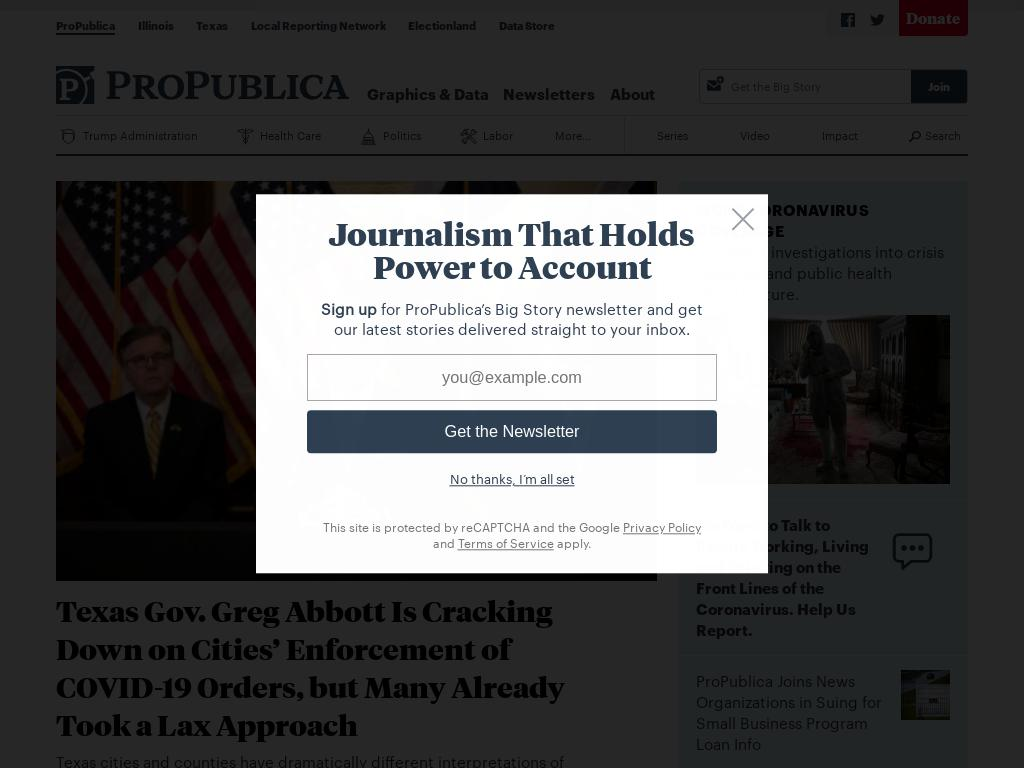button: (56, 180, 657, 581), (696, 314, 950, 484), (696, 514, 950, 641), (696, 670, 950, 768), (56, 65, 349, 104), (696, 198, 950, 241), (56, 114, 205, 156), (233, 114, 328, 156), (356, 114, 428, 156), (359, 83, 497, 104), (902, 114, 968, 156), (456, 114, 520, 156), (899, 0, 968, 36), (250, 16, 386, 33), (496, 83, 603, 104), (814, 114, 865, 156), (548, 114, 598, 156), (650, 114, 695, 156), (733, 114, 777, 156), (862, 0, 900, 36), (826, 0, 863, 36), (602, 83, 663, 104), (408, 16, 477, 33), (56, 16, 116, 35), (498, 16, 555, 33), (137, 16, 174, 33), (196, 16, 229, 33), (0, 0, 18, 17)
field: (724, 71, 912, 101), (911, 69, 967, 103)
heading: (56, 592, 566, 745), (696, 514, 875, 641), (696, 670, 883, 755), (56, 65, 349, 104), (696, 198, 950, 241)
iframe: (0, 0, 1024, 768)
image: (56, 180, 657, 581), (696, 314, 950, 484), (900, 670, 950, 720), (889, 529, 935, 575), (706, 70, 725, 97), (869, 12, 885, 28), (840, 12, 856, 28), (60, 128, 72, 140), (237, 128, 249, 140), (360, 128, 372, 140), (460, 128, 472, 140), (909, 131, 921, 143)
text: (696, 240, 950, 304), (56, 750, 580, 768), (79, 127, 198, 144), (250, 16, 339, 33), (256, 127, 321, 144), (338, 16, 386, 33), (379, 127, 421, 144), (925, 127, 962, 144), (480, 127, 514, 144)
